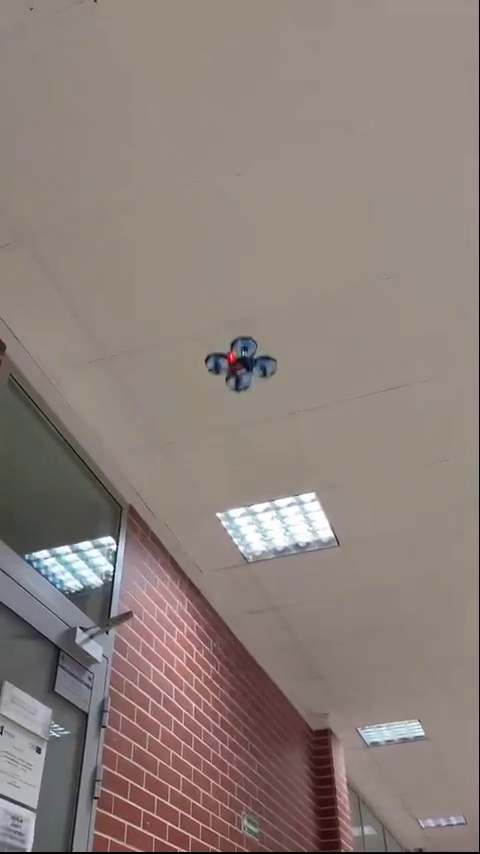drone: (200, 334, 271, 390)
